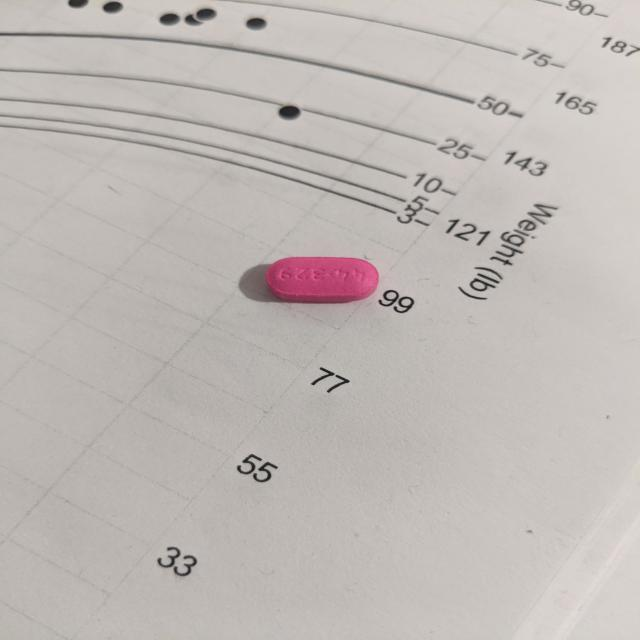non-organic waste: (264, 255, 380, 304)
